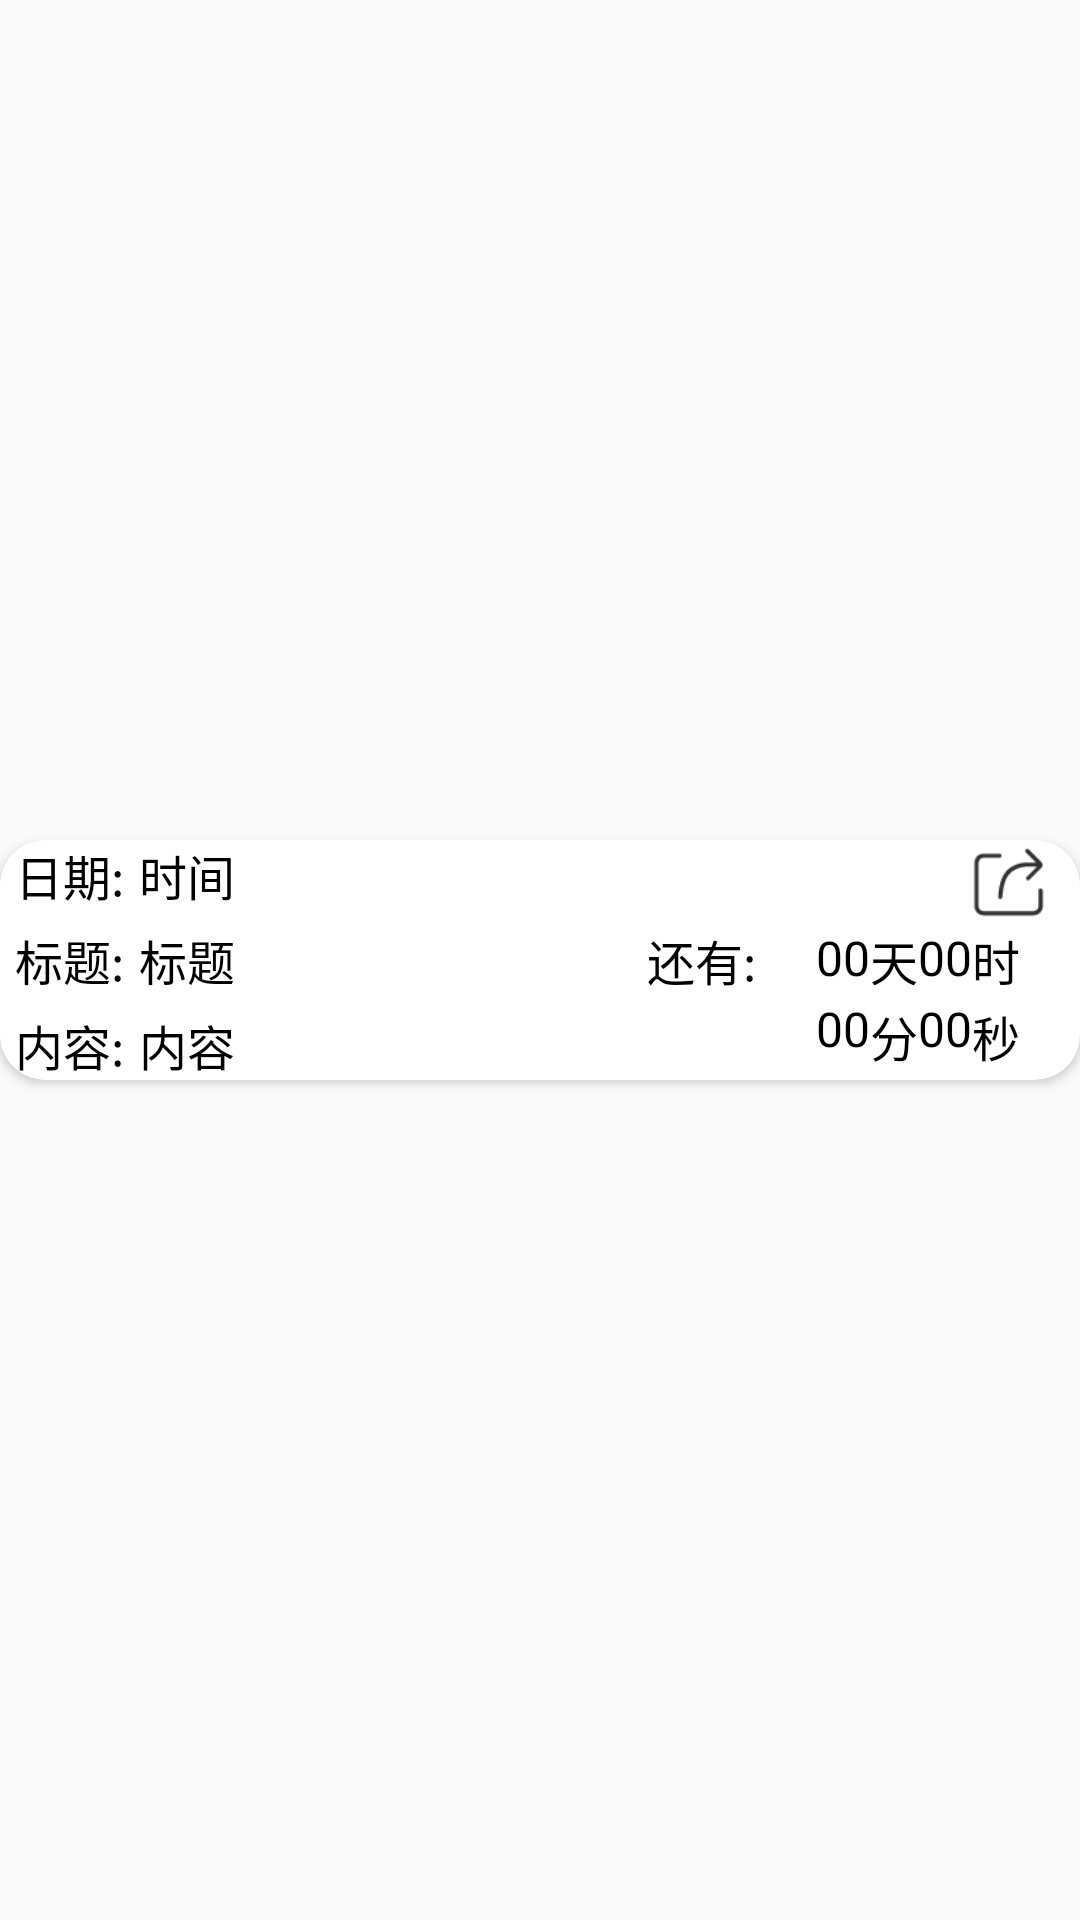

Locate icon controls on the screen. Image size 1080 x 1920, boxes as (x1, y1, x2, y2).
share: (974, 848, 1044, 916)
